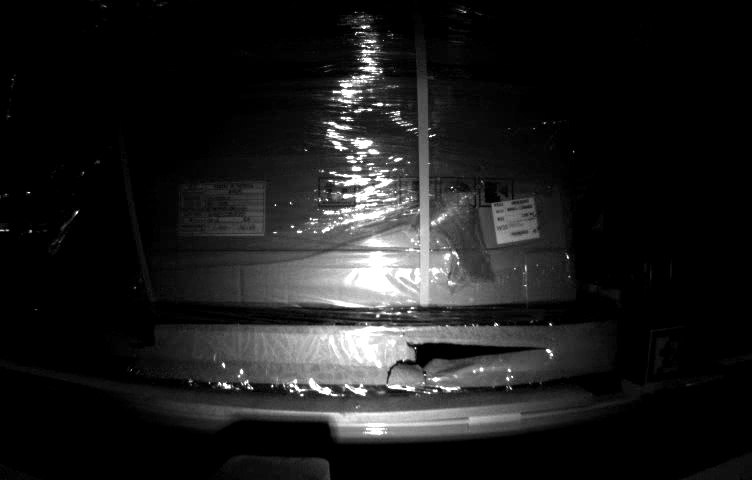True Barcode: (489, 197, 540, 243)
